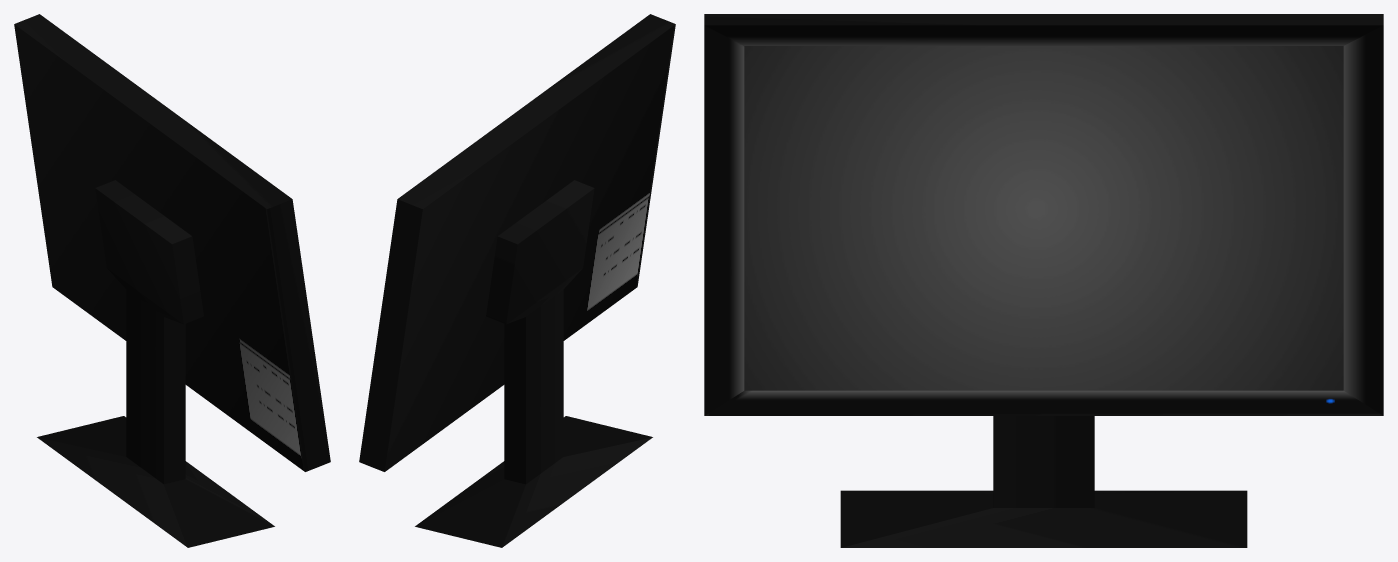
Rendered from PCScreenOff.obj.
3 renders of one model, left to right at view 1: azimuth 30°, elevation 25°; view 2: azimuth 150°, elevation 25°; view 3: azimuth 270°, elevation 25°, orthographic. The views are drawn at different scales.
Visible parts, largest first — view 1: Monitor; view 2: Monitor; view 3: Monitor.
Part boxes in pixels (x1,y1,x2,y2): Monitor: (14,14,330,547); Monitor: (359,14,675,547); Monitor: (704,14,1383,547).
Size of the model in its own units: 1.08 by 4.18 by 5.14.
